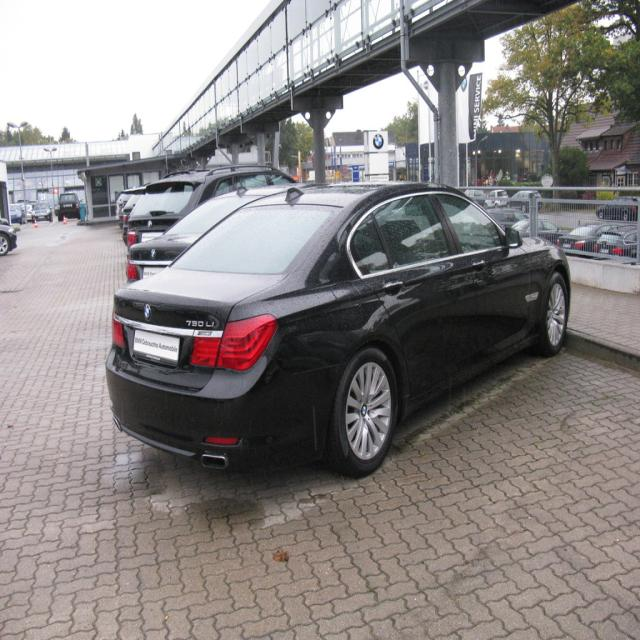car: (90, 165, 589, 483), (55, 188, 84, 224), (32, 201, 51, 225)
